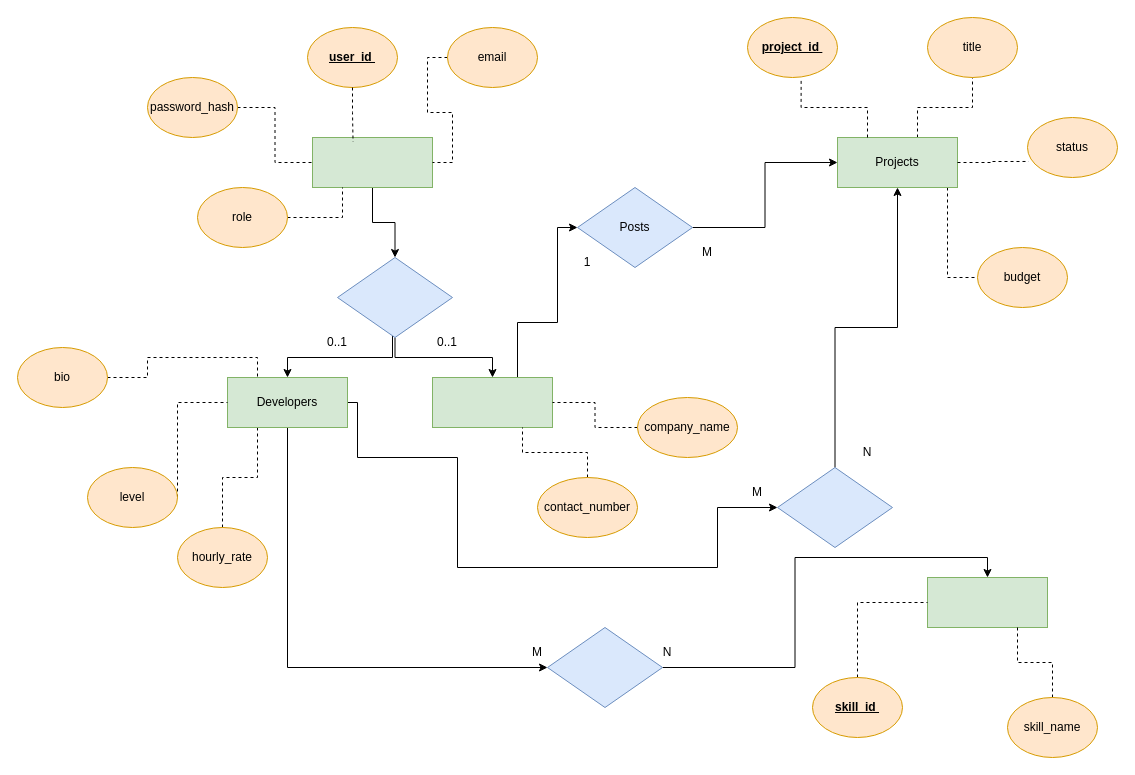
This 1135x775 diagram has some shape labels left out. Here are the shapes that lost their labels. From the top down, the centre of each, then its label:
[372,162]: Users
[394,297]: Is A
[492,402]: Clients
[834,507]: Applies To
[987,602]: Skills
[604,667]: Has Skill
